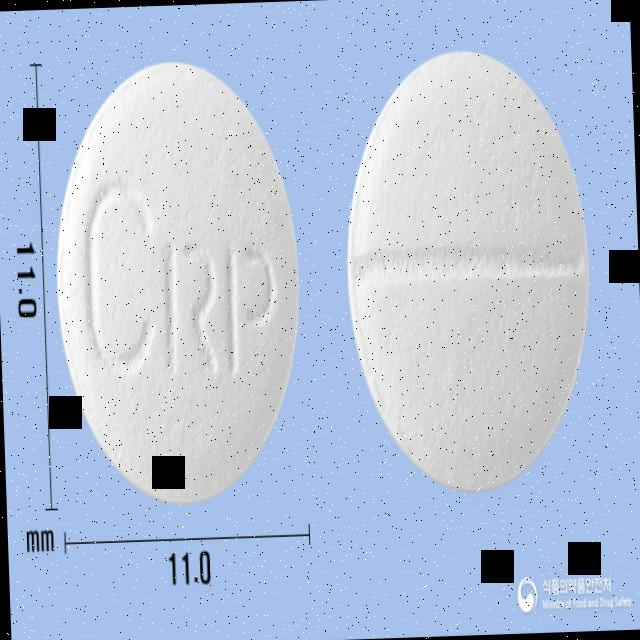Ciropan: (45, 52, 312, 516)
